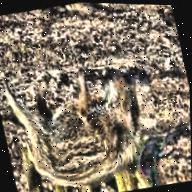boar: (0, 51, 157, 192)
